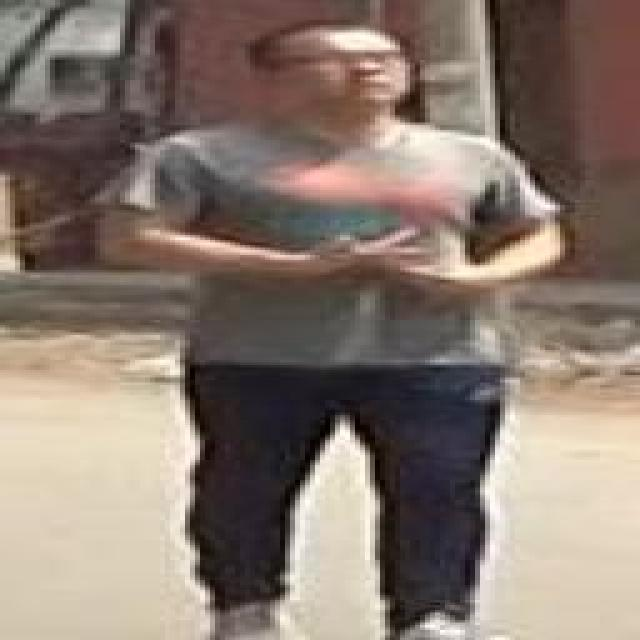adult: (93, 22, 581, 640)
